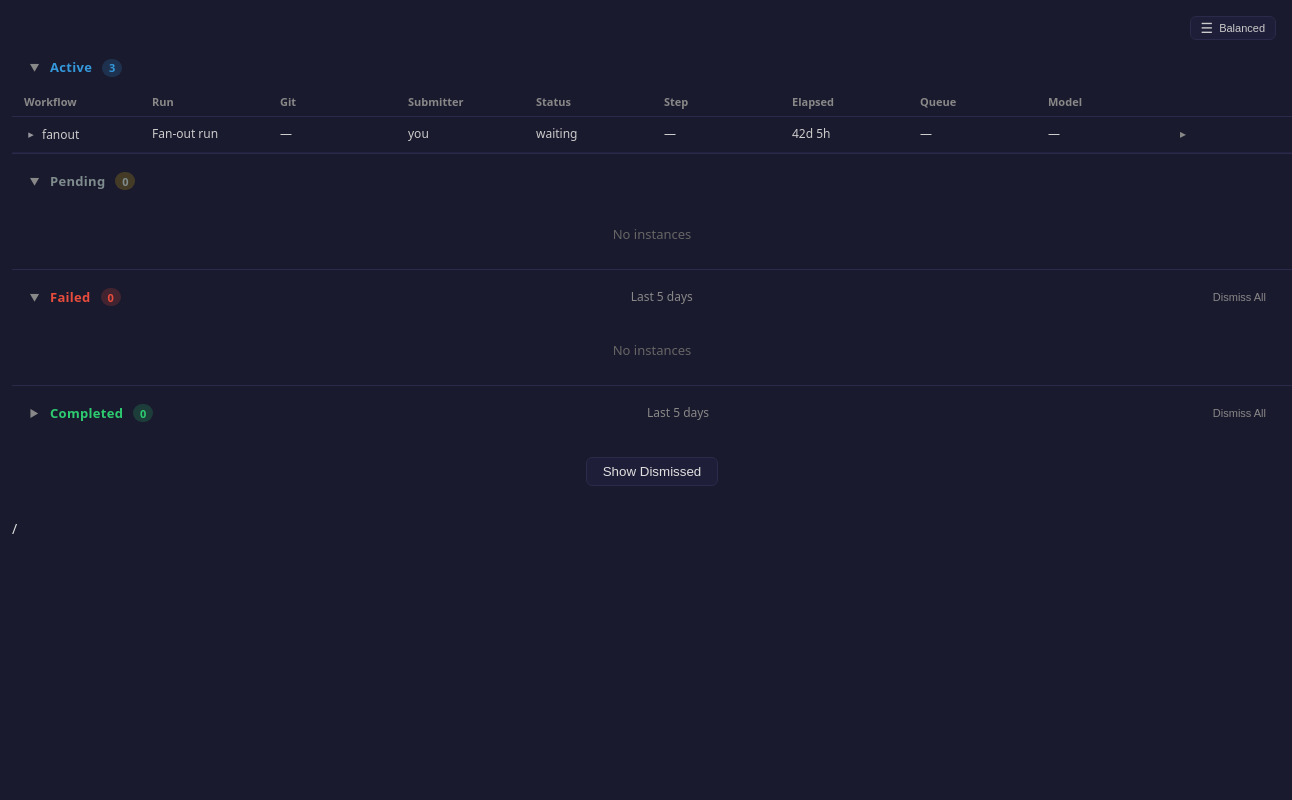
QueueView live-run pane — redaction and errors › an unreadable root snapshot shows the active nodes without drawing an empty graph
Click the button named "Expand". click: (1183, 134)
box: 1176,125 -> 1190,143
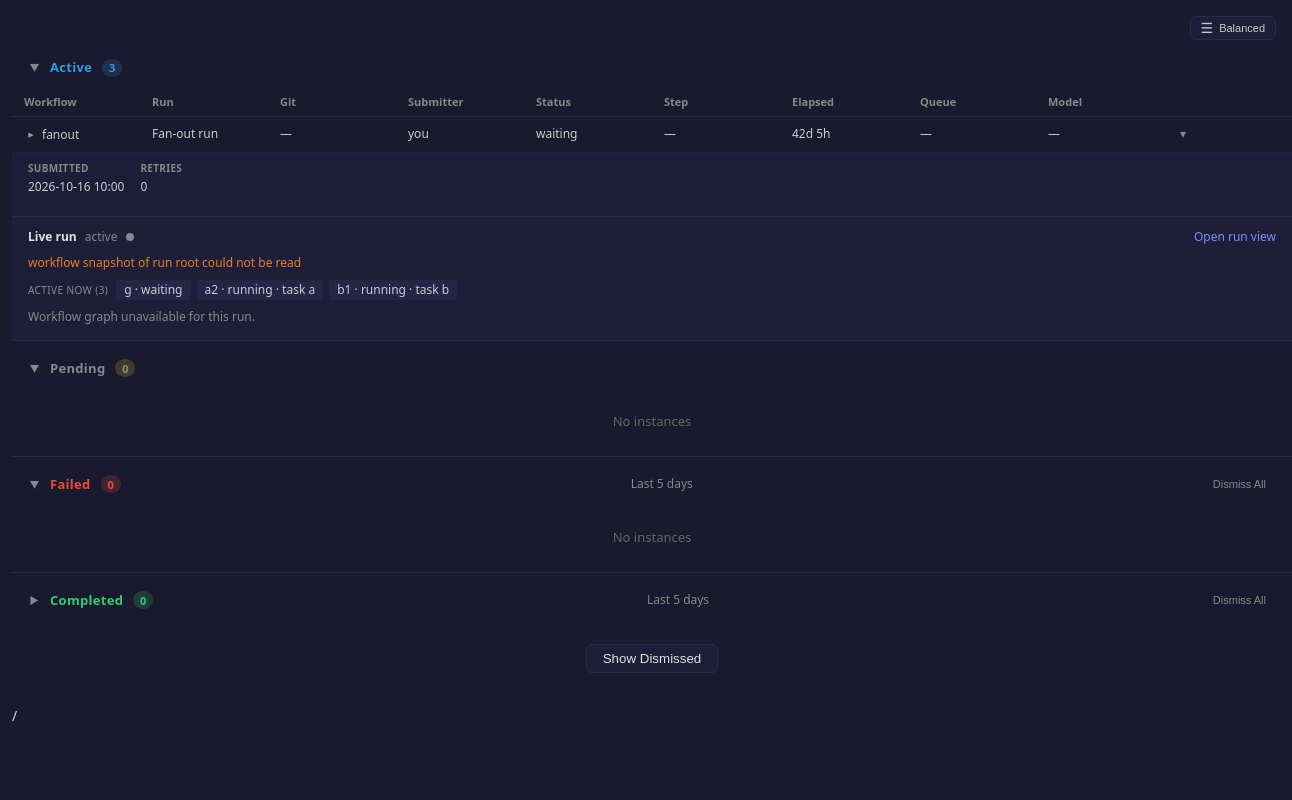
expect the text "Workflow graph unavailable for this run." is shown: met, box 28,308 -> 255,324
expect the text "workflow snapshot of run root could not be read" is shown: met, box 28,254 -> 301,270
expect the element with test id "run-live-active" shows "Active now (3)": met, box 28,280 -> 457,300
